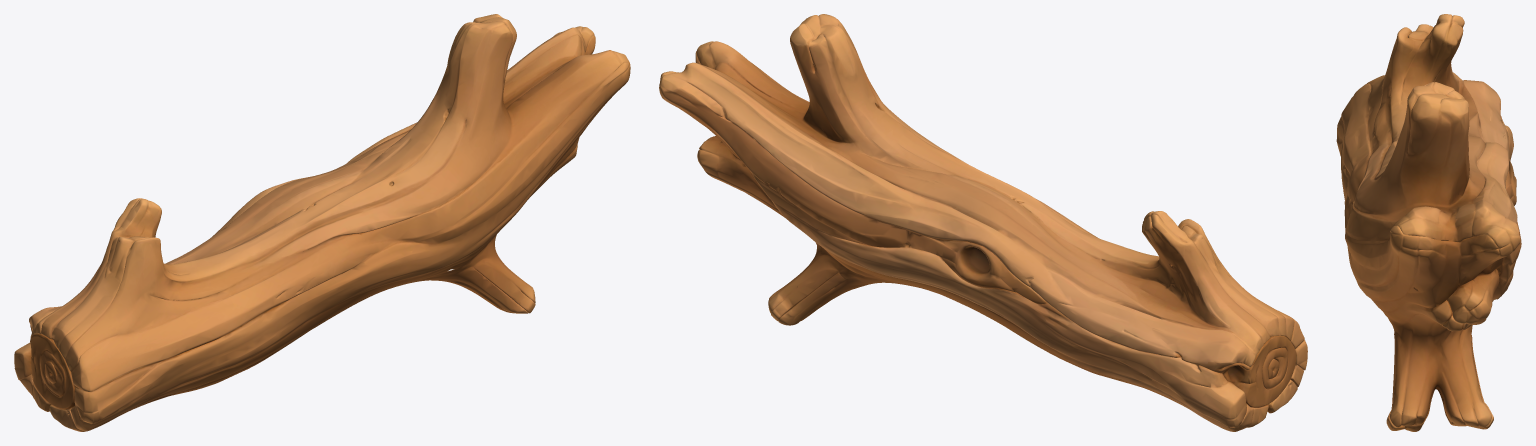
Rendered from log_branch.glb.
The picture shows the model from 3 angles, left to right: view 1: azimuth 30°, elevation 25°; view 2: azimuth 150°, elevation 25°; view 3: azimuth 270°, elevation 25°; orthographic projection. The views are drawn at different scales.
Parts seen in each view (by area): view 1: tripo_node_833eab30-f15b-4617-af9c-48aab80c81a3; view 2: tripo_node_833eab30-f15b-4617-af9c-48aab80c81a3; view 3: tripo_node_833eab30-f15b-4617-af9c-48aab80c81a3.
Boxes of the visible parts, x1,y1,x2,y2 form: tripo_node_833eab30-f15b-4617-af9c-48aab80c81a3: (14,14,630,431); tripo_node_833eab30-f15b-4617-af9c-48aab80c81a3: (659,14,1307,431); tripo_node_833eab30-f15b-4617-af9c-48aab80c81a3: (1336,14,1521,431).
Size of the model in its own units: 1.45 by 0.6999 by 0.3512.
Materials: 1 (1 with a texture image).
